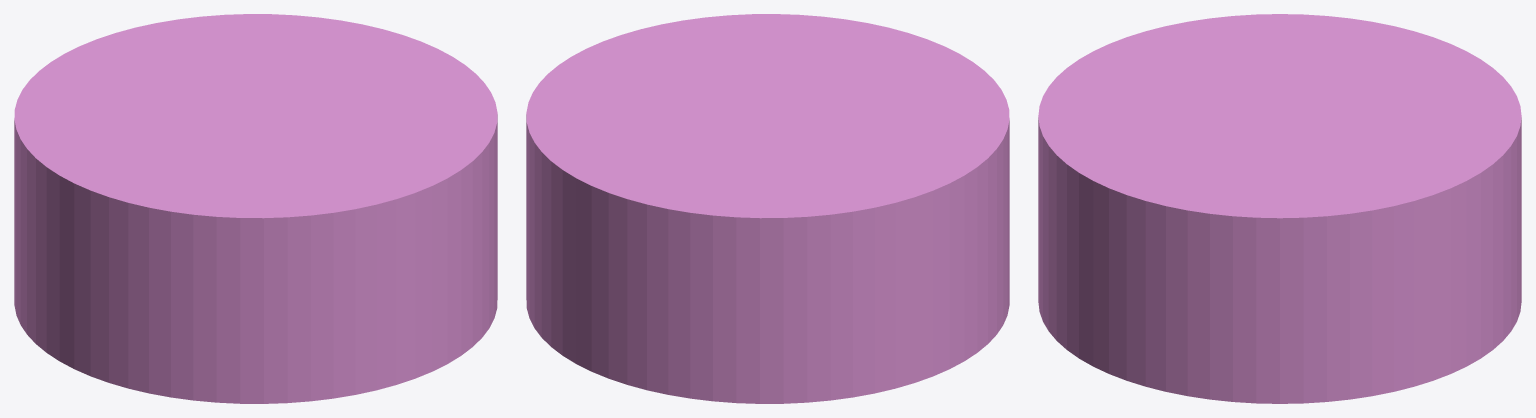
3 renders of one model, left to right at view 1: azimuth 30°, elevation 25°; view 2: azimuth 150°, elevation 25°; view 3: azimuth 270°, elevation 25°, orthographic.
Parts seen in each view (by area): view 1: Cylinder.027; view 2: Cylinder.027; view 3: Cylinder.027.
Part boxes in pixels (<box>): Cylinder.027: <box>14,14,497,403</box>; Cylinder.027: <box>526,14,1009,403</box>; Cylinder.027: <box>1038,14,1521,403</box>.
Size of the model in its own units: 0.00563 by 0.00239 by 0.00563.
